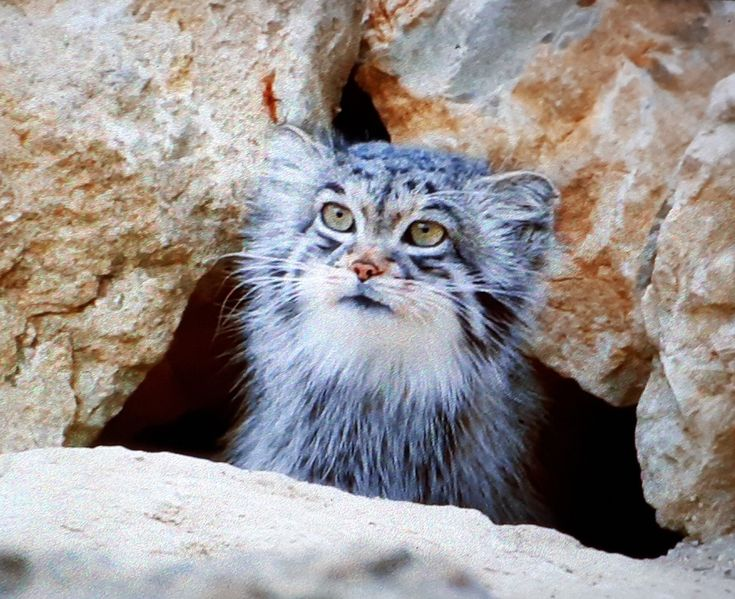cat: (210, 95, 568, 532)
